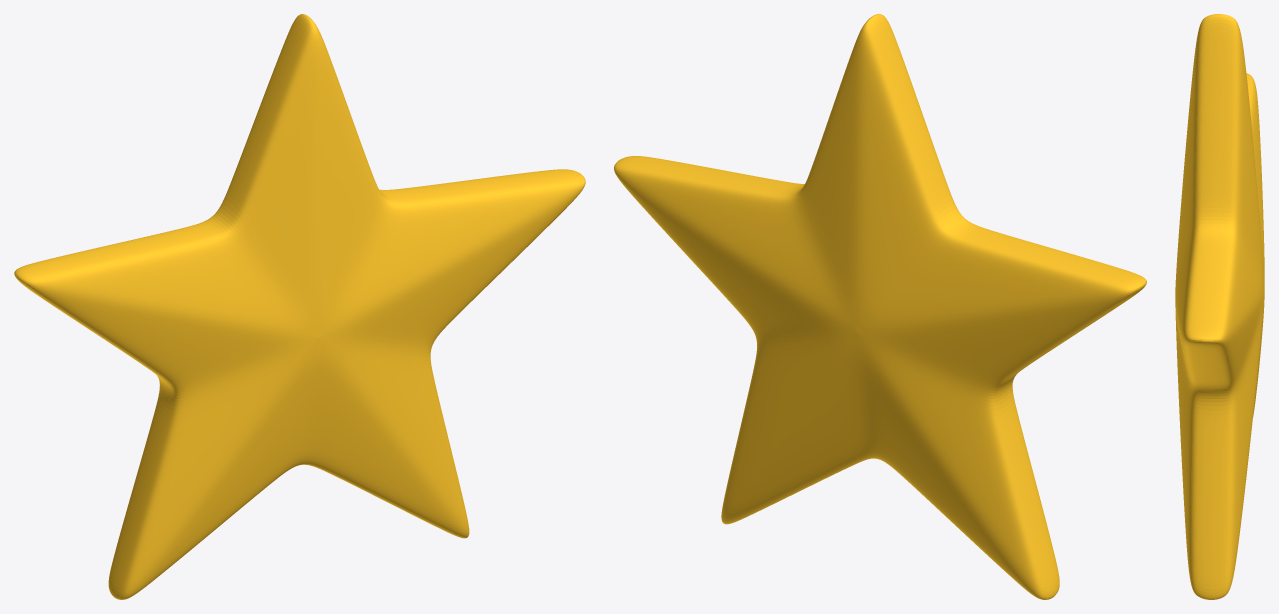
Rendered from Star.fbx.
3 renders of one model, left to right at view 1: azimuth 30°, elevation 25°; view 2: azimuth 150°, elevation 25°; view 3: azimuth 270°, elevation 25°, orthographic. The views are drawn at different scales.
Visible parts, largest first — view 1: Circle; view 2: Circle; view 3: Circle.
Boxes of the visible parts, bbox=[...] form: Circle: bbox=[14, 14, 585, 599]; Circle: bbox=[614, 14, 1146, 599]; Circle: bbox=[1175, 14, 1264, 599].
Size of the model in its own units: 1811 by 274 by 1745.
